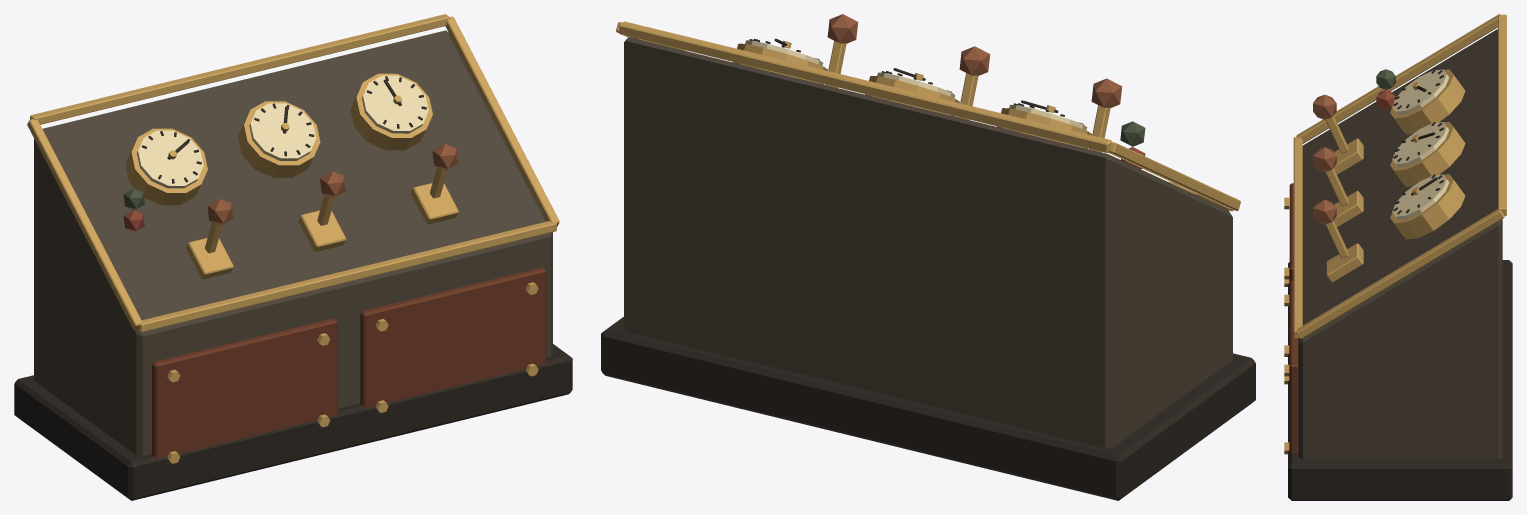
File: control_console_01.glb
The picture shows the model from 3 angles, left to right: view 1: azimuth 30°, elevation 25°; view 2: azimuth 150°, elevation 25°; view 3: azimuth 270°, elevation 25°; orthographic projection. The views are drawn at different scales.
Visible parts, largest first — view 1: Closed_cabinet, Foot, Service_panel_001, Service_panel, Deck_edge, Deck_edge_002, Deck_edge_003, Gauge_0_Cream_face, Gauge_2_Cream_face, Gauge_1_Cream_face, Deck_edge_001, Gauge_2_Housing (+5 smaller); view 2: Closed_cabinet, Foot, Deck_edge_002, Deck_edge_003, Gauge_2_Housing, Gauge_0_Housing, Gauge_1_Housing, Lever_knob_1, Lever_knob_2, Lever_knob_0; view 3: Closed_cabinet, Foot, Deck_edge_001, Deck_edge_003, Deck_edge, Gauge_2_Housing, Deck_edge_002, Gauge_0_Housing, Gauge_1_Housing, Service_panel_001, Gauge_0_Cream_face, Gauge_1_Cream_face (+13 smaller).
Boxes of the visible parts, box(x1,y1,x2,y2) form: Closed_cabinet: box(34, 30, 552, 456); Foot: box(14, 344, 572, 500); Service_panel_001: box(360, 267, 546, 407); Service_panel: box(152, 318, 337, 458); Deck_edge: box(137, 221, 556, 332); Deck_edge_002: box(30, 14, 449, 124); Deck_edge_003: box(27, 119, 142, 329); Gauge_0_Cream_face: box(137, 130, 203, 188); Gauge_2_Cream_face: box(362, 75, 428, 133); Gauge_1_Cream_face: box(249, 103, 316, 160); Deck_edge_001: box(445, 16, 559, 226); Gauge_2_Housing: box(350, 73, 432, 150); Closed_cabinet: box(624, 37, 1232, 448); Foot: box(601, 317, 1255, 500); Deck_edge_002: box(619, 21, 1112, 152); Deck_edge_003: box(1108, 142, 1240, 210); Gauge_2_Housing: box(733, 43, 827, 84); Gauge_0_Housing: box(997, 108, 1091, 148); Gauge_1_Housing: box(865, 76, 959, 116); Lever_knob_1: box(959, 46, 990, 75); Lever_knob_2: box(827, 14, 858, 43); Lever_knob_0: box(1091, 78, 1122, 107); Closed_cabinet: box(1298, 29, 1502, 458); Foot: box(1288, 260, 1512, 500); Deck_edge_001: box(1296, 209, 1504, 338); Deck_edge_003: box(1296, 14, 1500, 143); Deck_edge: box(1293, 137, 1302, 338); Gauge_2_Housing: box(1390, 174, 1465, 239); Deck_edge_002: box(1498, 14, 1506, 216); Gauge_0_Housing: box(1390, 69, 1465, 134); Gauge_1_Housing: box(1390, 121, 1465, 186); Service_panel_001: box(1289, 280, 1298, 453); Gauge_0_Cream_face: box(1392, 69, 1449, 114); Gauge_1_Cream_face: box(1392, 122, 1448, 167).
Size of the model in its own units: 1.92 by 1.24 by 0.895.
